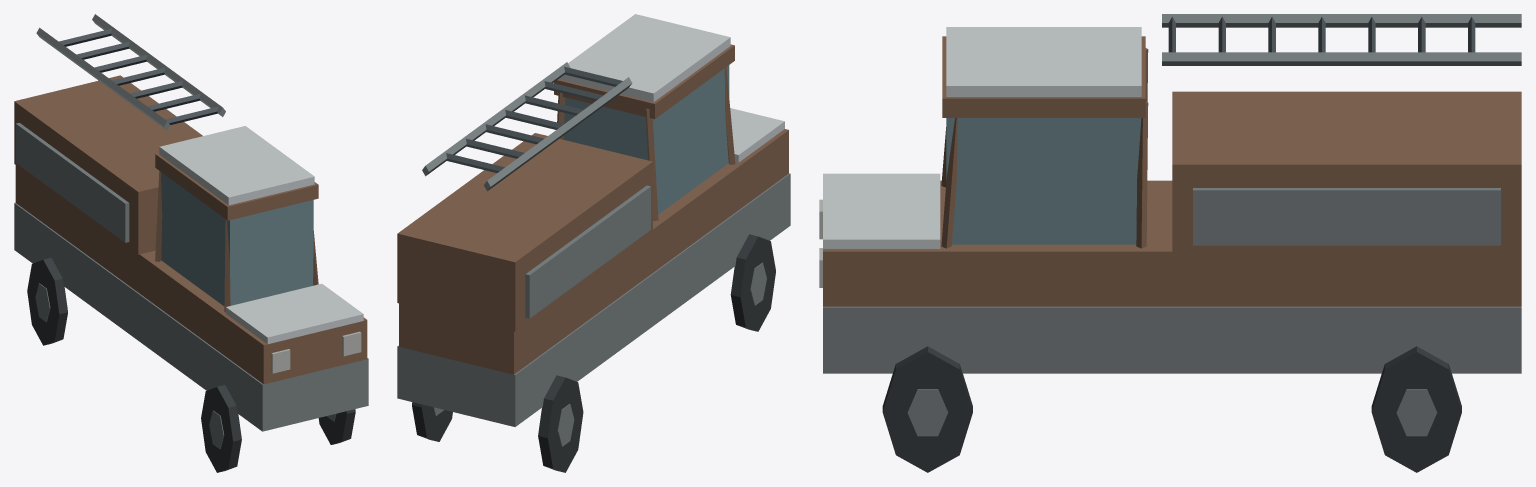
File: fire_engine.glb
3 renders of one model, left to right at view 1: azimuth 30°, elevation 25°; view 2: azimuth 150°, elevation 25°; view 3: azimuth 270°, elevation 25°, orthographic. The views are drawn at different scales.
Visible parts, largest first — view 1: fire_engine; view 2: fire_engine; view 3: fire_engine.
Part boxes in pixels (x1,y1,x2,y2): fire_engine: (14, 14, 368, 472); fire_engine: (397, 14, 790, 472); fire_engine: (819, 14, 1521, 472).
Size of the model in its own units: 0.8257 by 1.8 by 2.88.
